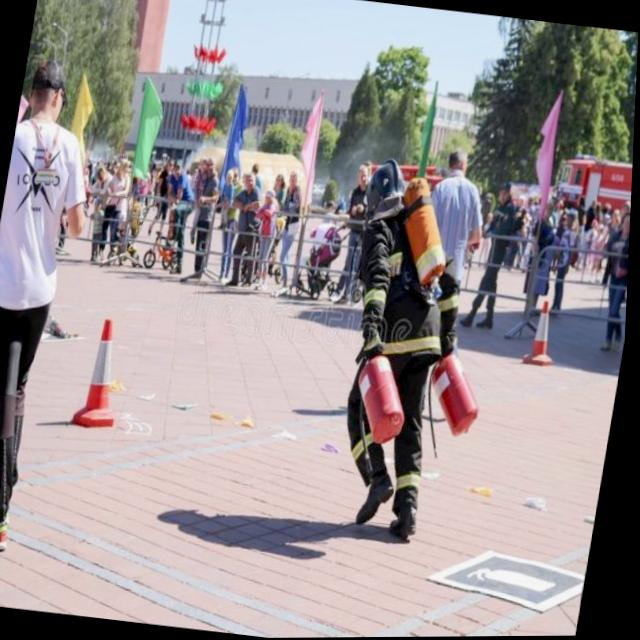FireExtinguisher: (336, 326, 417, 482), (413, 325, 495, 467)
